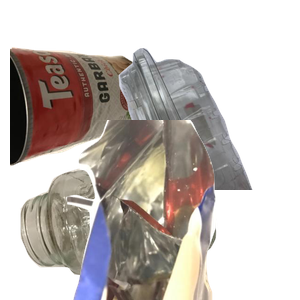glass: (18, 143, 227, 300)
metal: (10, 44, 151, 203)
plastic: (71, 45, 300, 225)
trash: (63, 120, 300, 300)
